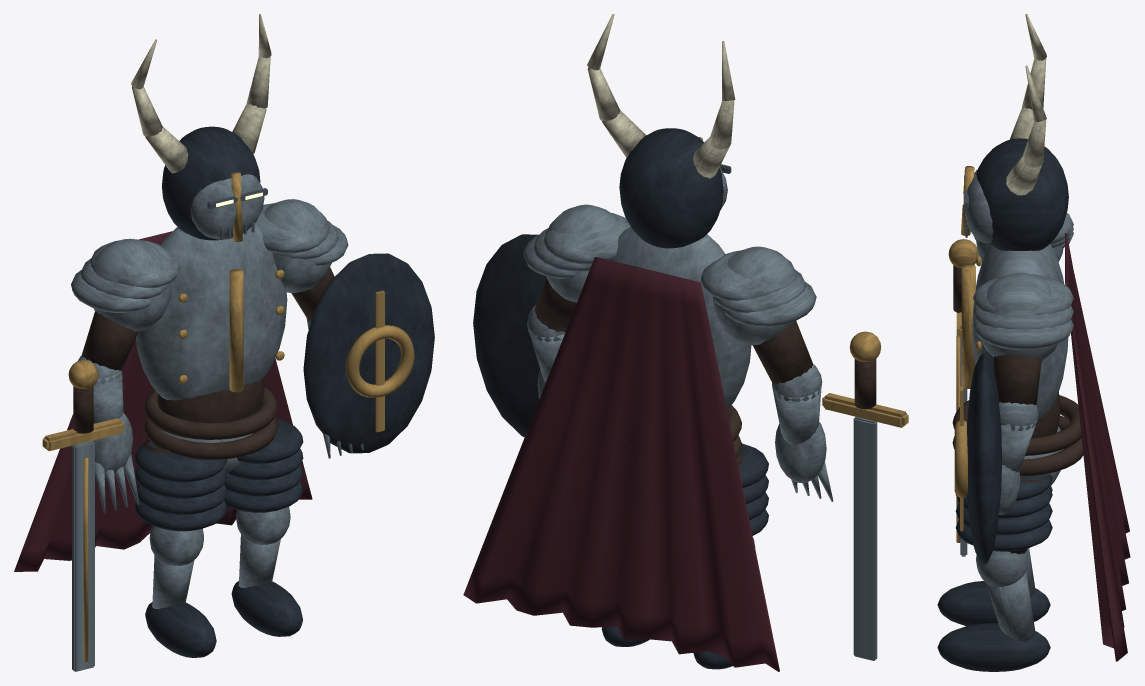
Rendered from enemy_baron.glb.
3 views of the same model, side by side, from view 1: azimuth 30°, elevation 25°; view 2: azimuth 150°, elevation 25°; view 3: azimuth 270°, elevation 25° (orthographic). The views are drawn at different scales.
Parts seen in each view (by area): view 1: Weathered_blue_steel, Forged_black_iron.003, Weathered_blue_steel.002, Worn_crimson_cloth, Forged_black_iron, Oiled_leather, Forged_black_iron.001, Antique_brass.002, Weathered_blue_steel.004, Forged_black_iron.002, Aged_bone, Weathered_blue_steel.006 (+7 smaller); view 2: Worn_crimson_cloth, Weathered_blue_steel.002, Forged_black_iron.003, Forged_black_iron.002, Weathered_blue_steel.004, Weathered_blue_steel.006, Weathered_blue_steel, Aged_bone, Forged_black_iron, Oiled_leather.002, Antique_brass.002, Oiled_leather.004 (+1 smaller); view 3: Worn_crimson_cloth, Weathered_blue_steel.004, Forged_black_iron.001, Forged_black_iron.002, Forged_black_iron.003, Weathered_blue_steel, Aged_bone, Oiled_leather, Weathered_blue_steel.003, Antique_brass.002, Forged_black_iron, Oiled_leather.004 (+5 smaller).
Boxes of the visible parts, x1,y1,x2,y2 form: Weathered_blue_steel: [136, 223, 287, 475]; Forged_black_iron.003: [303, 253, 434, 453]; Weathered_blue_steel.002: [71, 238, 180, 513]; Worn_crimson_cloth: [14, 231, 312, 571]; Forged_black_iron: [135, 440, 227, 657]; Oiled_leather: [144, 378, 277, 459]; Forged_black_iron.001: [224, 419, 303, 636]; Antique_brass.002: [42, 290, 414, 661]; Weathered_blue_steel.004: [255, 199, 364, 458]; Forged_black_iron.002: [162, 126, 260, 240]; Aged_bone: [131, 14, 271, 173]; Weathered_blue_steel.006: [72, 441, 94, 671]; Worn_crimson_cloth: [463, 257, 779, 671]; Weathered_blue_steel.002: [700, 246, 833, 501]; Forged_black_iron.003: [473, 234, 546, 437]; Forged_black_iron.002: [619, 128, 723, 248]; Weathered_blue_steel.004: [523, 204, 630, 398]; Weathered_blue_steel.006: [853, 417, 877, 660]; Weathered_blue_steel: [612, 227, 751, 409]; Aged_bone: [587, 14, 735, 178]; Forged_black_iron: [693, 443, 768, 669]; Oiled_leather.002: [753, 321, 813, 384]; Antique_brass.002: [822, 331, 908, 427]; Oiled_leather.004: [534, 278, 576, 331]; Worn_crimson_cloth: [1065, 233, 1130, 661]; Weathered_blue_steel.004: [973, 272, 1073, 545]; Forged_black_iron.001: [937, 473, 1052, 671]; Forged_black_iron.002: [976, 138, 1068, 250]; Forged_black_iron.003: [967, 353, 1001, 564]; Weathered_blue_steel: [972, 244, 1068, 487]; Aged_bone: [1006, 14, 1046, 195]; Oiled_leather: [952, 392, 1083, 475]; Weathered_blue_steel.003: [976, 551, 1035, 641]; Antique_brass.002: [948, 239, 978, 542]; Forged_black_iron: [937, 486, 1052, 626]; Oiled_leather.004: [993, 354, 1041, 404].
Bounding box in the file's own units: 3.78 × 5.42 × 1.56.
9 materials, 7 textured.
